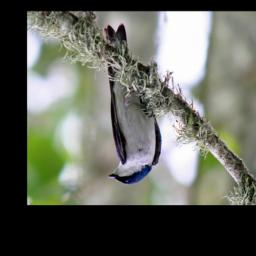Swallow: (101, 22, 163, 187)
